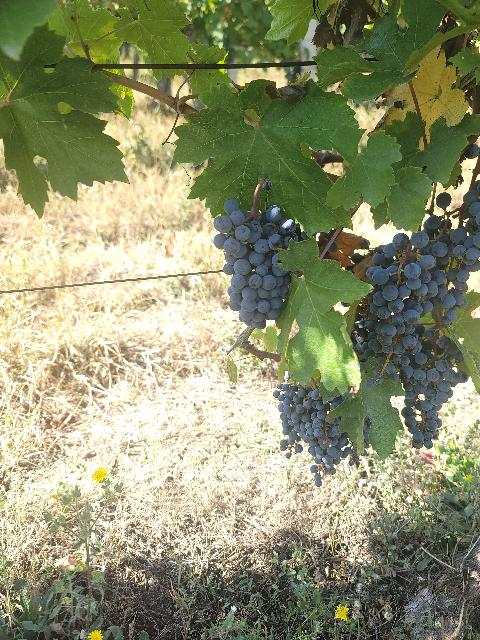grapes: (214, 199, 309, 330), (358, 231, 438, 356), (424, 180, 480, 324), (401, 336, 469, 449), (298, 385, 352, 474), (272, 371, 305, 459)
